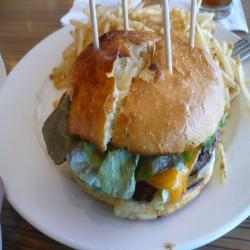burger: (62, 29, 218, 220)
fries: (76, 7, 216, 49)
